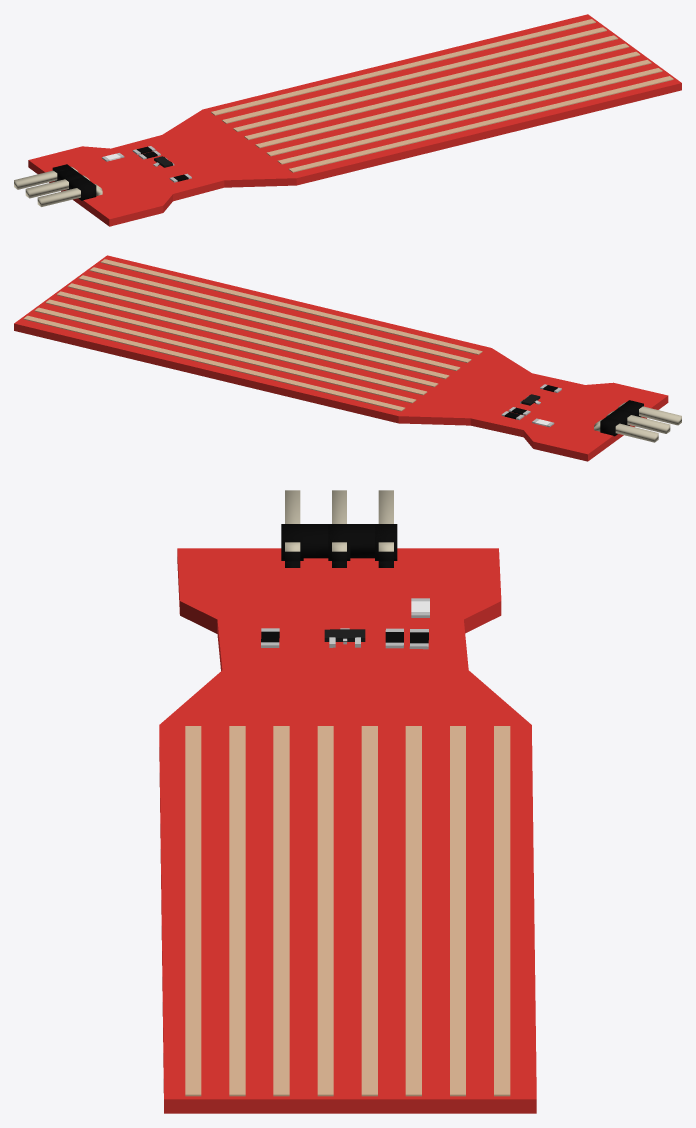
File: WATER LEVEL SENSOR.fbx
3 renders of one model, top to bottom at view 1: azimuth 30°, elevation 25°; view 2: azimuth 150°, elevation 25°; view 3: azimuth 270°, elevation 25°, orthographic. The views are drawn at different scales.
Parts seen in each view (by area): view 1: Plane.003; view 2: Plane.003; view 3: Plane.003.
Part boxes in pixels (left/top/right/bottom): Plane.003: left=14, top=14, right=681, bottom=226; Plane.003: left=14, top=255, right=681, bottom=461; Plane.003: left=159, top=490, right=536, bottom=1113.
Bounding box in the file's own units: 2872 × 84.44 × 776.
